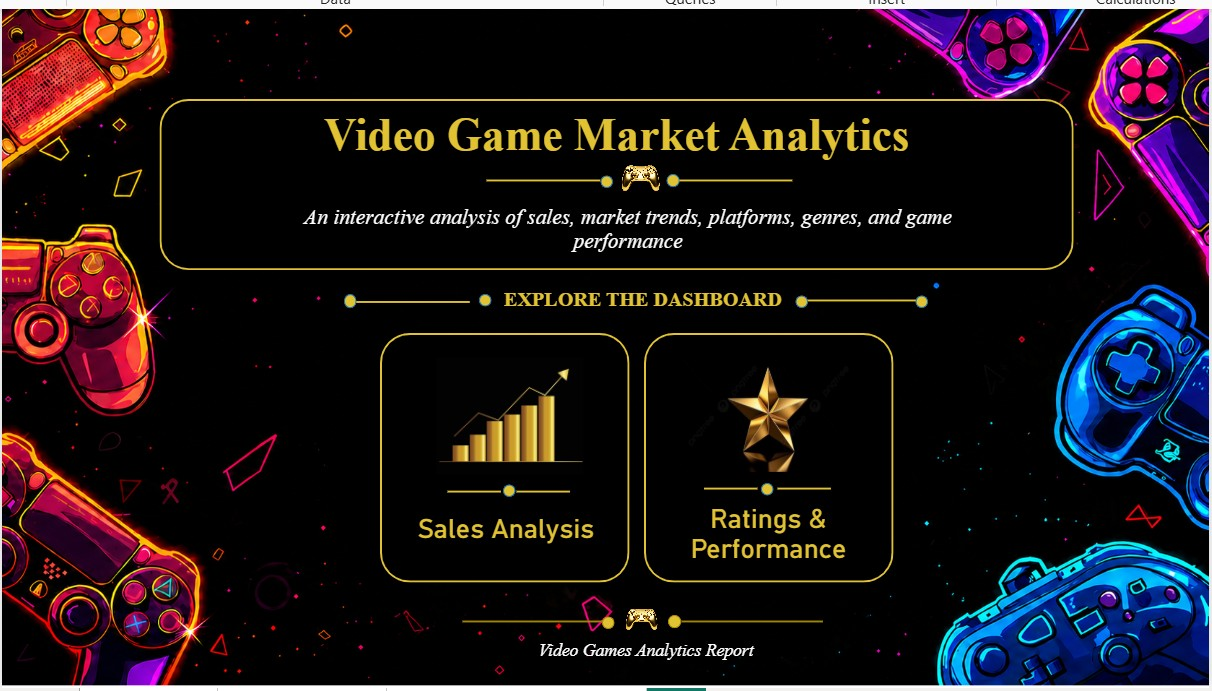

This screenshot's page, from the dashboard's own definition file:
{"tool":"powerbi","page":{"name":"Overview","canvas":[1280,720],"ordinal":0},"visuals":[{"type":"shape","box":[166.2,94.8,969.5,181.4],"z":0},{"type":"shape","title":"Video Game Market Analytics","box":[181.4,106.1,941.1,71.8],"z":1000},{"type":"shape","box":[400.6,343.9,264.6,264.6],"z":2000},{"type":"shape","box":[680.3,343.9,264.6,264.6],"z":3000},{"type":"actionButton","title":"Sales Analysis","box":[413.9,534.8,241.9,56.7],"z":4000},{"type":"actionButton","title":"Ratings & Performance","box":[691.7,523.5,241.9,71.8],"z":5000},{"type":"image","box":[710.6,359.1,204.1,136.1],"z":6000},{"type":"image","box":[646.2,147,62.4,66.1],"z":7000},{"type":"shape","box":[718.1,168.6,120.9,26.5],"z":8000},{"type":"shape","box":[704.8,174.3,14,14],"z":9000},{"type":"shape","box":[514,167.8,120.9,26.5],"z":10000},{"type":"shape","box":[634.9,176,13.2,13.2],"z":11000},{"type":"shape","title":"An interactive analysis of sales, market trends, platforms, genres, and game performance","box":[313.6,207.9,701.1,68],"z":12000},{"type":"shape","title":"EXPLORE THE DASHBOARD","box":[519.7,296.5,319.4,41.6],"z":13000},{"type":"shape","box":[376.1,296.7,120.9,26.5],"z":14000},{"type":"shape","box":[506.5,302.1,13.2,13.2],"z":15000},{"type":"shape","box":[851.9,296.5,120.9,26.5],"z":16000},{"type":"shape","box":[841,304.3,13.2,13.2],"z":17000},{"type":"shape","box":[362.8,302.4,13.2,15.1],"z":18000},{"type":"shape","box":[969.5,304.3,13.2,13.2],"z":19000},{"type":"image","box":[455.4,364.7,166.3,134.2],"z":20000},{"type":"shape","box":[472.5,498.9,56.7,24.6],"z":21000},{"type":"shape","box":[546.2,498.9,56.7,24.6],"z":22000},{"type":"shape","box":[531,504.6,13.2,13.2],"z":23000},{"type":"shape","box":[744.6,497.1,56.7,24.6],"z":24000},{"type":"shape","box":[805,502.7,13.2,13.2],"z":25000},{"type":"shape","box":[822.1,497.1,56.7,24.6],"z":26000},{"type":"image","box":[650.2,618.6,54.8,56.7],"z":27000},{"type":"shape","box":[720,636.3,150,26.5],"z":28000},{"type":"shape","box":[706.8,642,14,14],"z":29000},{"type":"shape","box":[487.6,637,149.3,26.5],"z":30000},{"type":"shape","box":[636.9,643.7,13.2,13.2],"z":31000},{"type":"shape","title":"Video Games Analytics Report","box":[523.5,669,319.4,41.6],"z":32000}]}

Visuals, with their boxes on the page's 1280x720 design canvas (x1, y1, x2, y2). These are canvas units, not pixel positions in the 1212x691 screenshot, which may show the page scaled, cropped or inside an application window:
shape: select_region(166, 95, 1136, 276)
"Video Game Market Analytics" shape: select_region(181, 106, 1122, 178)
shape: select_region(401, 344, 665, 608)
shape: select_region(680, 344, 945, 608)
"Sales Analysis" actionButton: select_region(414, 535, 656, 592)
"Ratings & Performance" actionButton: select_region(692, 524, 934, 595)
image: select_region(711, 359, 915, 495)
image: select_region(646, 147, 709, 213)
shape: select_region(718, 169, 839, 195)
shape: select_region(705, 174, 719, 188)
shape: select_region(514, 168, 635, 194)
shape: select_region(635, 176, 648, 189)
"An interactive analysis of sales, market trends, platforms, genres, and game performance" shape: select_region(314, 208, 1015, 276)
"EXPLORE THE DASHBOARD" shape: select_region(520, 296, 839, 338)
shape: select_region(376, 297, 497, 323)
shape: select_region(506, 302, 520, 315)
shape: select_region(852, 296, 973, 323)
shape: select_region(841, 304, 854, 318)
shape: select_region(363, 302, 376, 318)
shape: select_region(970, 304, 983, 318)
image: select_region(455, 365, 622, 499)
shape: select_region(472, 499, 529, 524)
shape: select_region(546, 499, 603, 524)
shape: select_region(531, 505, 544, 518)
shape: select_region(745, 497, 801, 522)
shape: select_region(805, 503, 818, 516)
shape: select_region(822, 497, 879, 522)
image: select_region(650, 619, 705, 675)
shape: select_region(720, 636, 870, 663)
shape: select_region(707, 642, 721, 656)
shape: select_region(488, 637, 637, 664)
shape: select_region(637, 644, 650, 657)
"Video Games Analytics Report" shape: select_region(524, 669, 843, 711)
